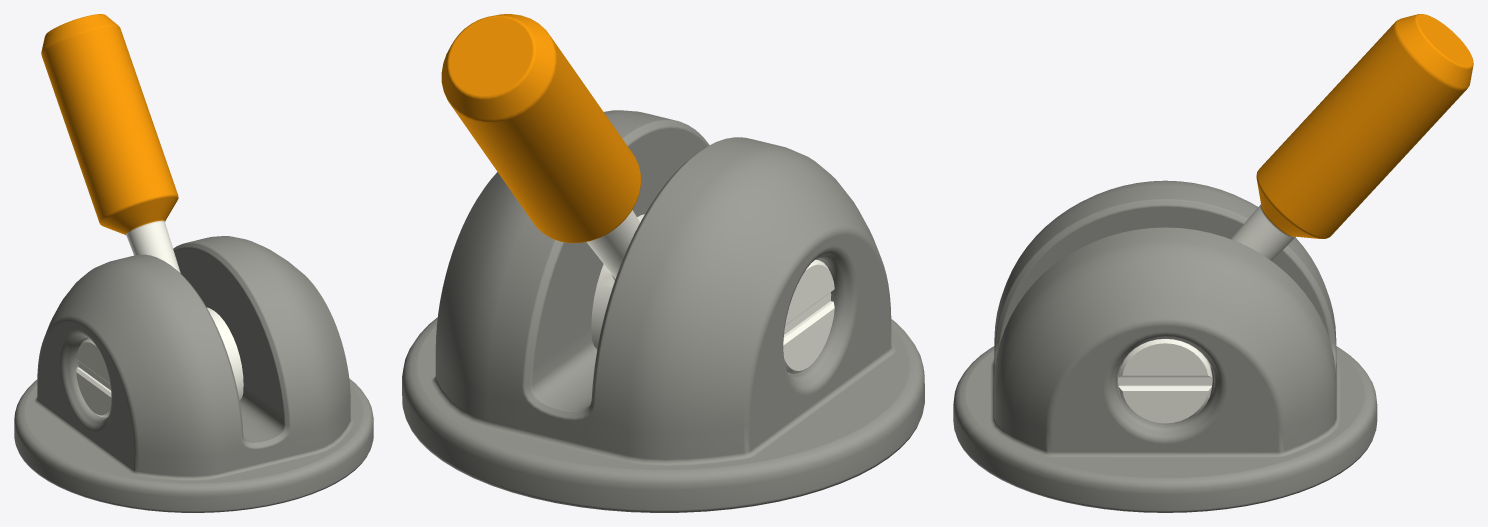
Rendered from Switch #7.fbx.
3 views of the same model, side by side, from view 1: azimuth 30°, elevation 25°; view 2: azimuth 150°, elevation 25°; view 3: azimuth 270°, elevation 25° (orthographic). The views are drawn at different scales.
Parts seen in each view (by area): view 1: kitbash_45; view 2: kitbash_45; view 3: kitbash_45.
Boxes of the visible parts, <box> form: kitbash_45: <box>14,14,373,512</box>; kitbash_45: <box>402,14,924,512</box>; kitbash_45: <box>953,14,1473,512</box>.
Size of the model in its own units: 6.2 by 6.55 by 7.61.
